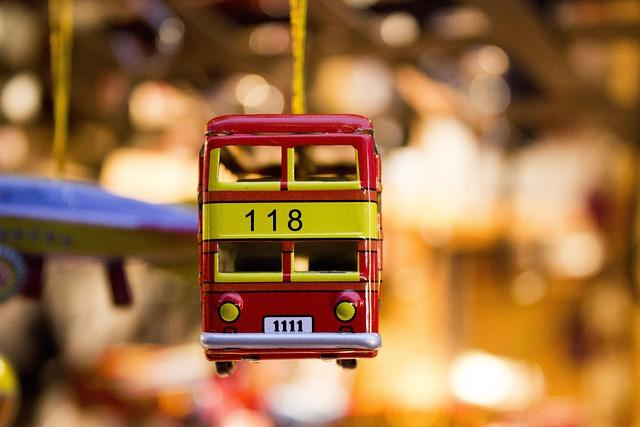Non_Gorille: (97, 50, 517, 397)
